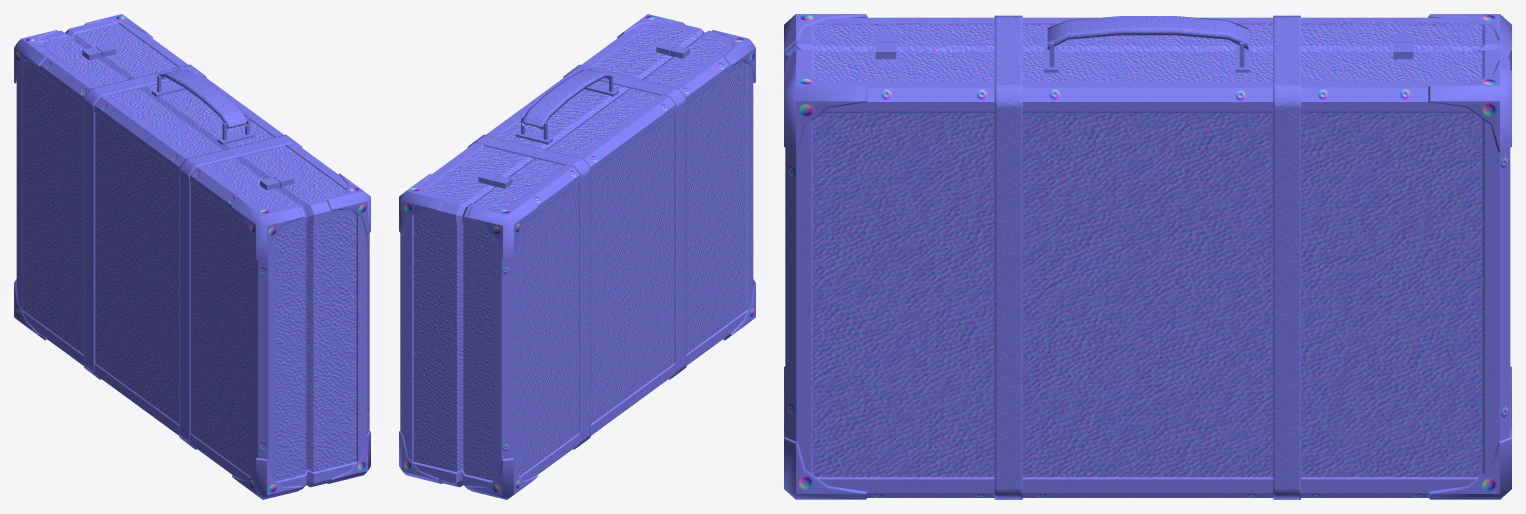
The model's file is Case.fbx.
The picture shows the model from 3 angles, left to right: view 1: azimuth 30°, elevation 25°; view 2: azimuth 150°, elevation 25°; view 3: azimuth 270°, elevation 25°; orthographic projection. The views are drawn at different scales.
Parts seen in each view (by area): view 1: Cube.031; view 2: Cube.031; view 3: Cube.031.
Part boxes in pixels (bbox=[...]): Cube.031: bbox=[14, 14, 370, 499]; Cube.031: bbox=[399, 14, 755, 499]; Cube.031: bbox=[784, 14, 1511, 499].
Size of the model in its own units: 19.66 by 50.52 by 74.06.
